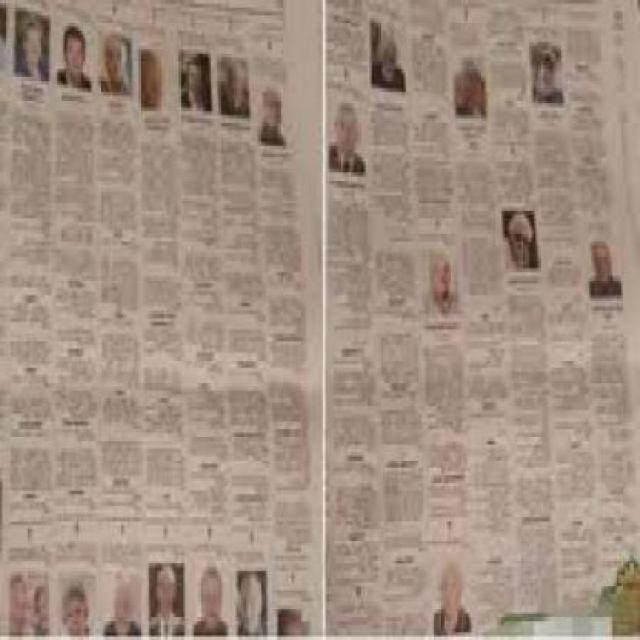PAPER: (2, 0, 640, 637)
